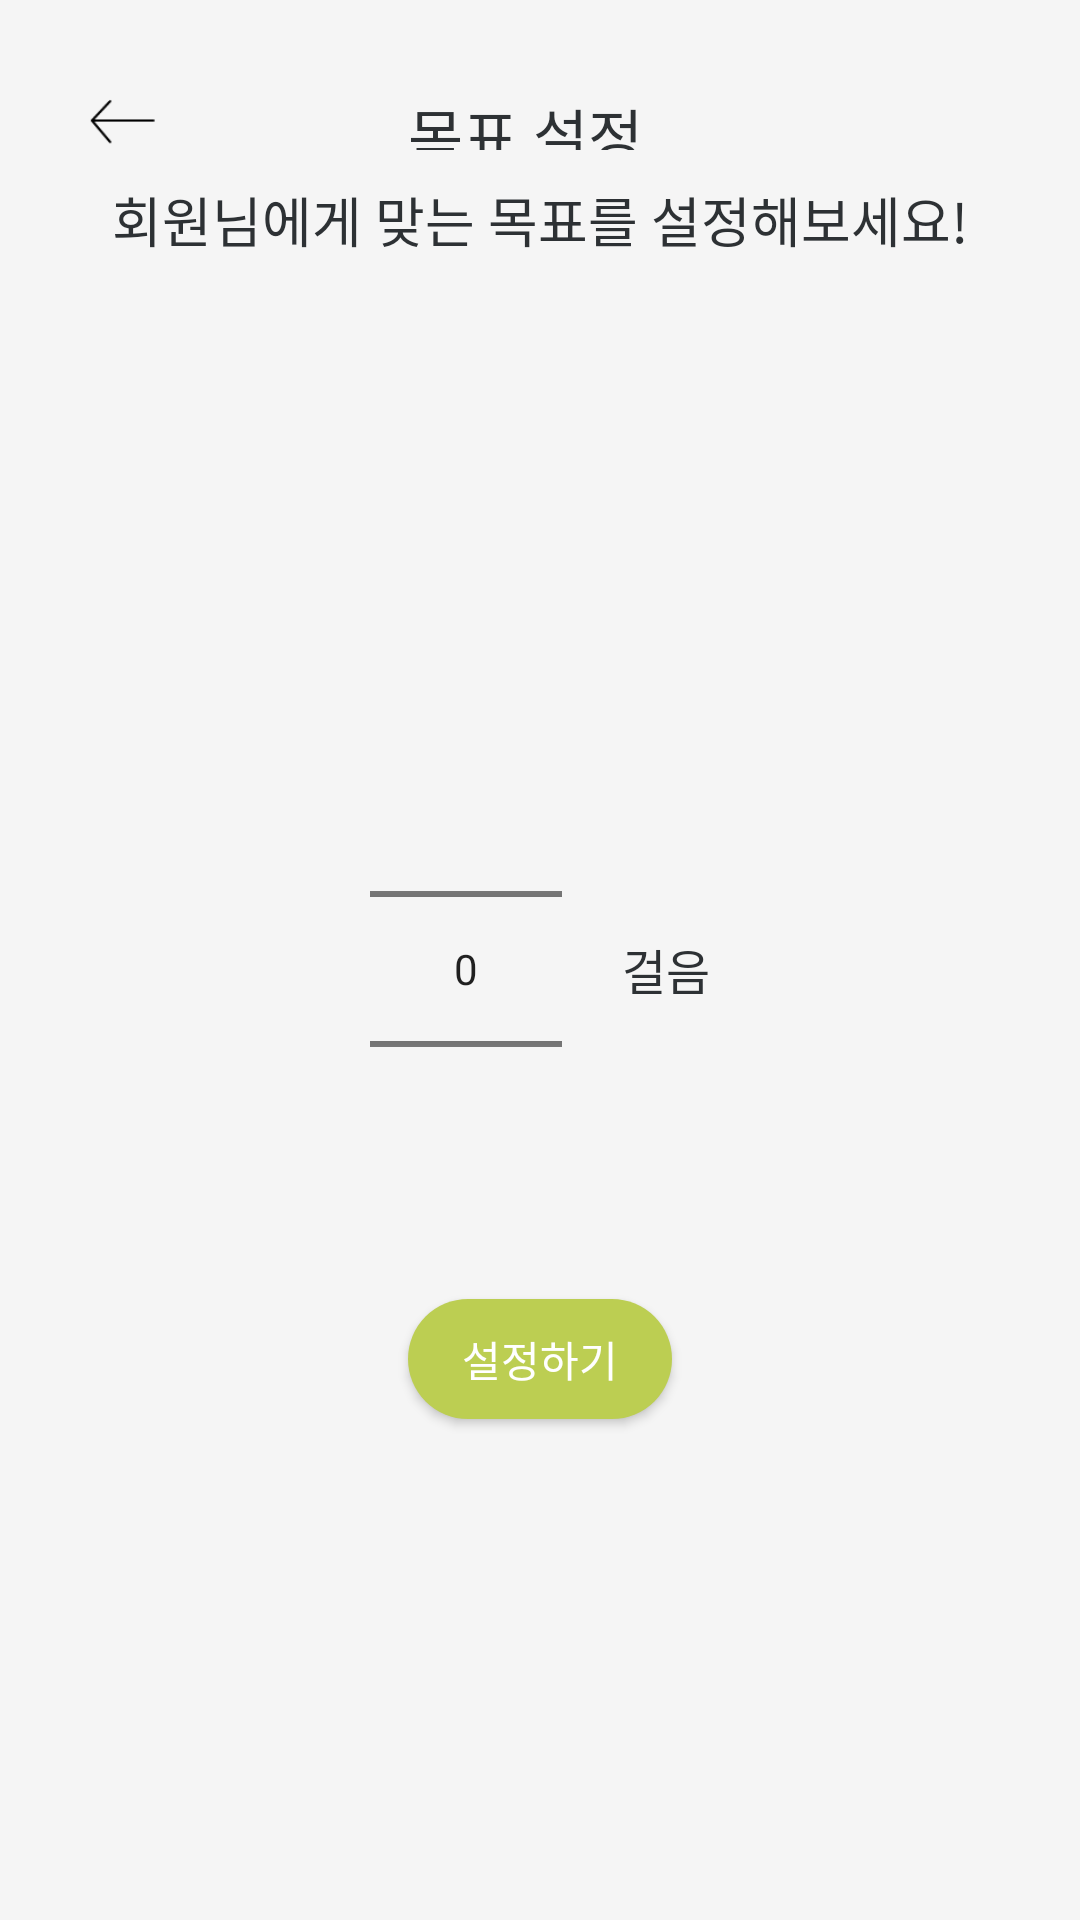

Screen size 1080px×1920px. Icon name, then its box in pixels as (x1, y1, x2, y2):
back: (90, 100, 155, 144)
